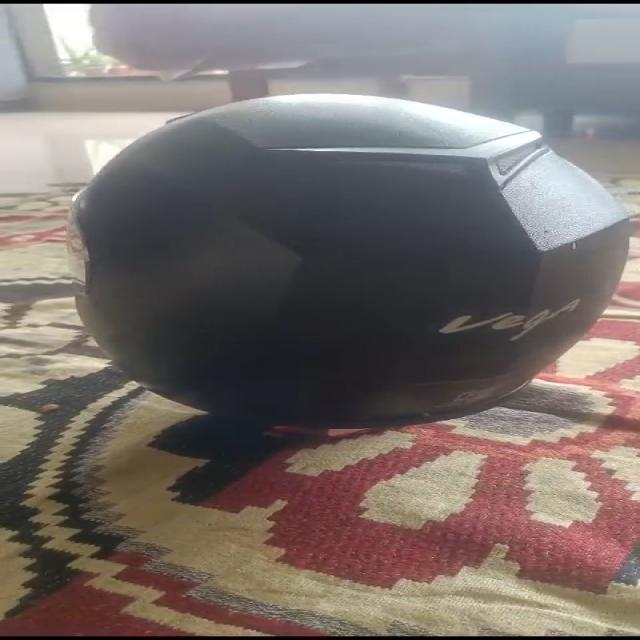Helmet: (69, 94, 633, 432)
